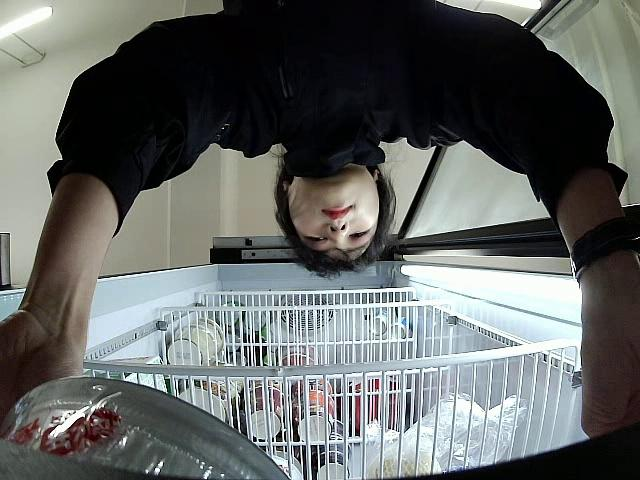09_yukGaeJang: (0, 379, 294, 480)
